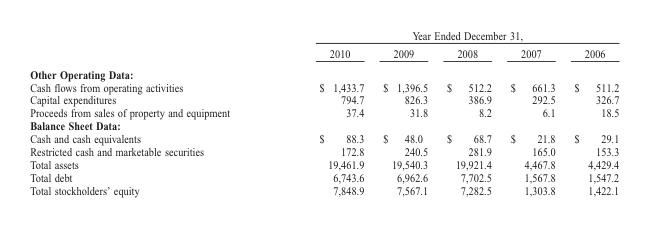table: (29, 28, 618, 196)
table column: (29, 28, 273, 196), (273, 28, 372, 196), (372, 28, 436, 196), (436, 28, 500, 196), (500, 28, 564, 196), (564, 28, 618, 196)
table column header: (29, 28, 618, 63)
table projected row header: (29, 63, 618, 80), (29, 118, 618, 131)
table row: (29, 44, 618, 63), (29, 63, 618, 80), (29, 28, 618, 44), (29, 80, 618, 93), (29, 93, 618, 106), (29, 118, 618, 131), (29, 131, 618, 144), (29, 144, 618, 157), (29, 157, 618, 170), (29, 170, 618, 183), (29, 183, 618, 196), (29, 106, 618, 118)
table spanning cell: (273, 28, 618, 44)
